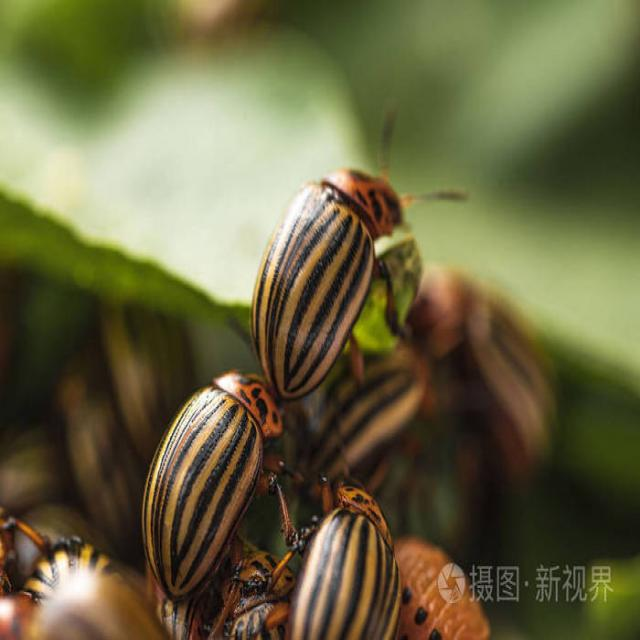ShuCaiHuaBanChong-Grown-: (245, 152, 398, 391), (136, 366, 288, 604), (289, 473, 402, 638)
